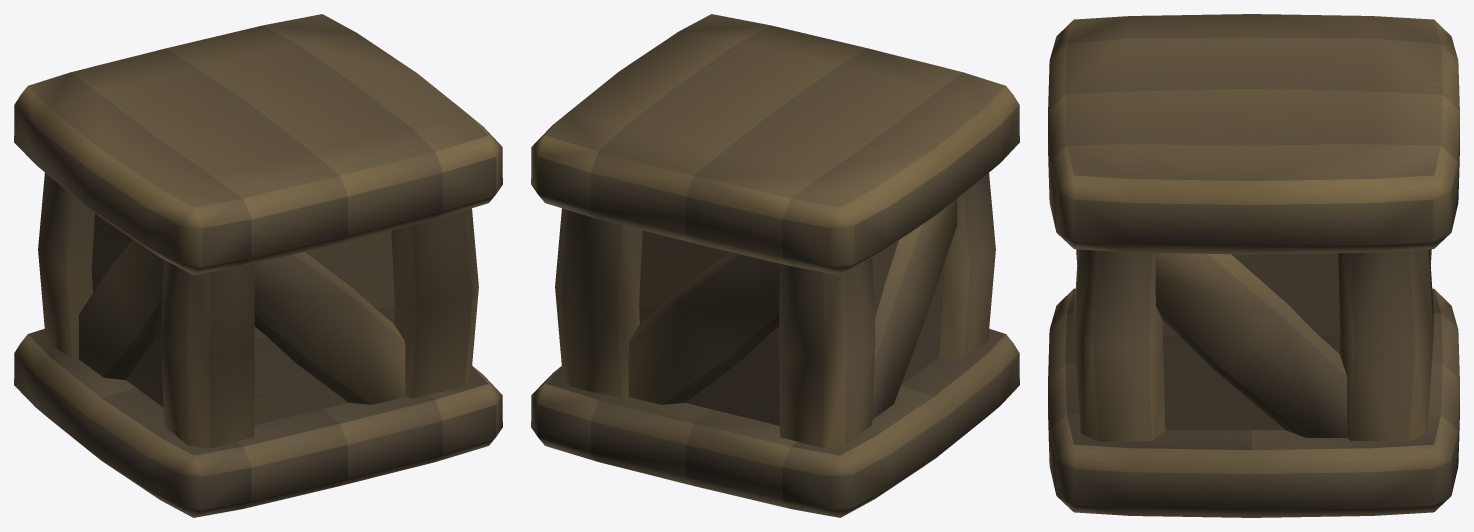
File: orc_box_small_1.fbx
The picture shows the model from 3 angles, left to right: view 1: azimuth 30°, elevation 25°; view 2: azimuth 150°, elevation 25°; view 3: azimuth 270°, elevation 25°; orthographic projection. The views are drawn at different scales.
Parts seen in each view (by area): view 1: orc_box_small_1; view 2: orc_box_small_1; view 3: orc_box_small_1.
Boxes of the visible parts, left/top/right/bottom form: orc_box_small_1: left=14, top=14, right=502, bottom=517; orc_box_small_1: left=531, top=14, right=1019, bottom=517; orc_box_small_1: left=1048, top=14, right=1459, bottom=517.
Bounding box in the file's own units: 99 × 86.82 × 94.58.
